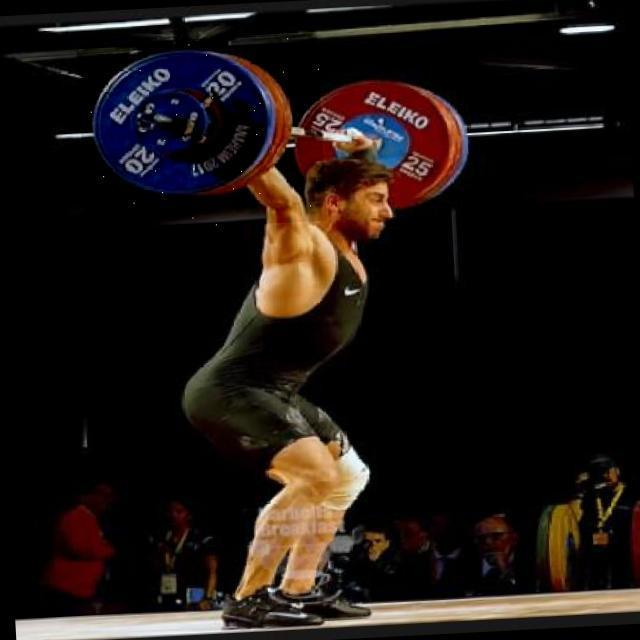barbell: (77, 34, 328, 234)
